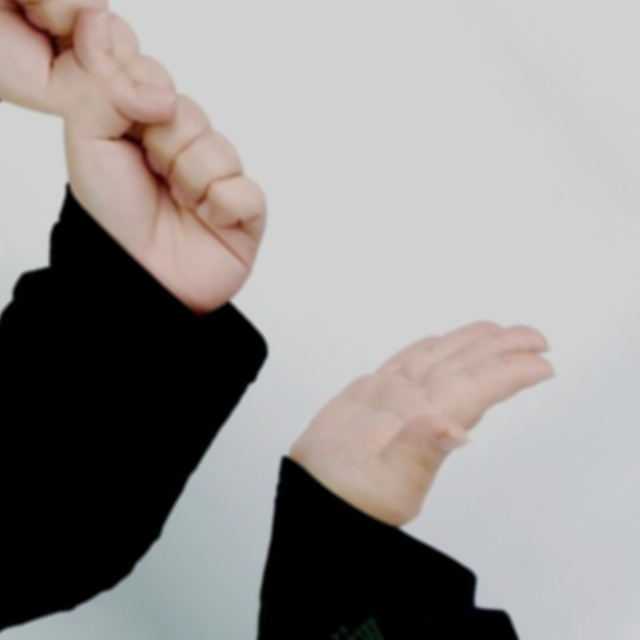Rock: (31, 45, 310, 336)
